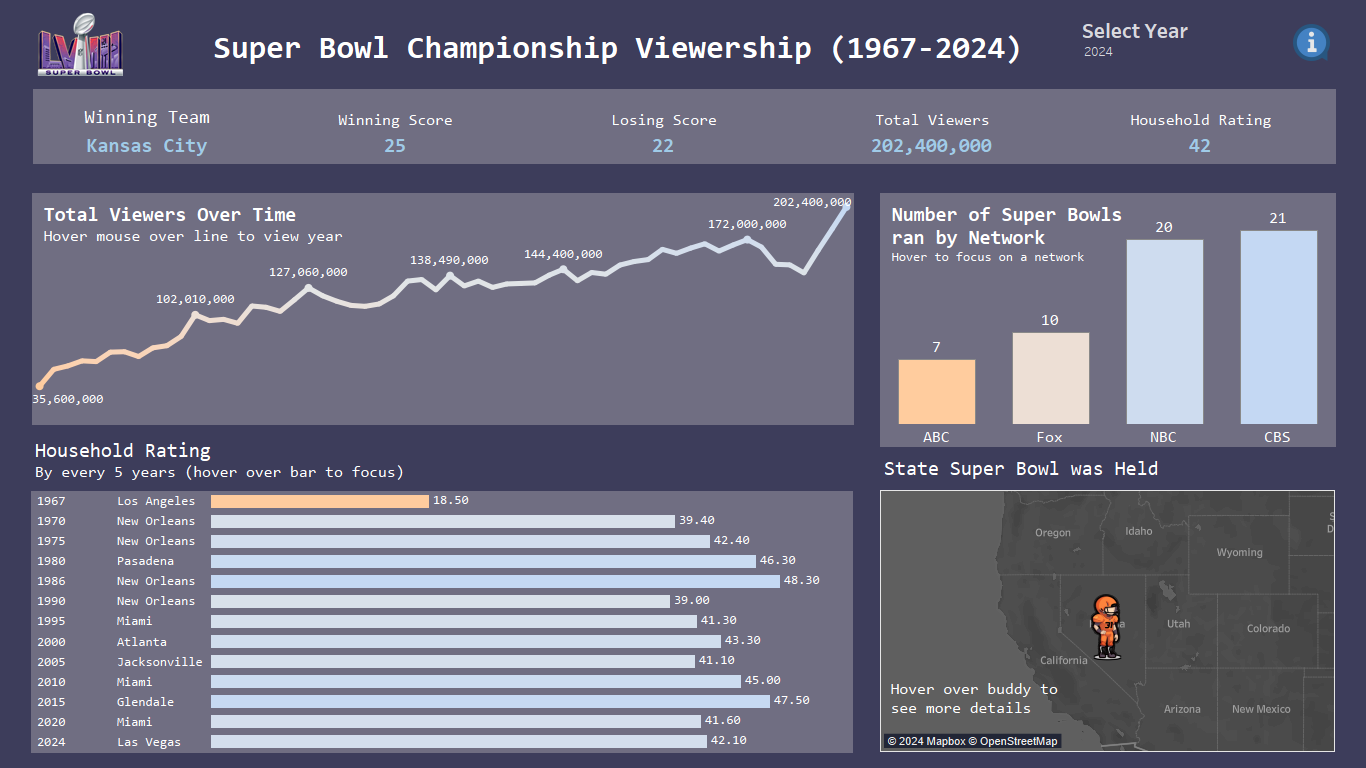

What the dashboard file says about the page in this screenshot:
{"tool":"tableau","page":{"name":"Dashboard 1","canvas":[1366,768],"ordinal":0},"visuals":[{"type":"image","param":"Image/Super_Bowl_LVIII_logo.png","box":[37,12,152,64]},{"type":"title","box":[184,14,868,67]},{"type":"filter","title":"KPI Banner","param":"[federated.1ekt4bs0pq2q6h1biis9r1j9ua7z].[yr:date:ok]","box":[1082,15,174,64]},{"type":"worksheet","title":"KPI Banner","mark":"Automatic","rows":["Winning_Team"],"box":[33,89,1302,74]},{"type":"text","box":[41,184,389,80]},{"type":"worksheet","title":"Total Viewers Over Time","mark":"Automatic","rows":["total_viewers"],"cols":["date"],"box":[32,193,821,231]},{"type":"worksheet","title":"Count by Networks","mark":"Automatic","rows":["total_viewers"],"cols":["network"],"box":[880,193,455,254]},{"type":"text","box":[889,195,256,79]},{"type":"worksheet","title":"HH Ratings","mark":"Automatic","rows":["date","Location City (copy)_2069404039160811520"],"cols":["household_rating"],"box":[31,433,821,319]},{"type":"worksheet","title":"Animated US Map","mark":"Shape","box":[880,451,455,301]},{"type":"text","box":[888,677,184,43]}]}

Visuals, with their boxes in screenshot pixels (x1, y1, x2, y2), scaled from the page's 1366x768 canvas onto the 1366x768 screenshot:
image: (left=37, top=12, right=189, bottom=76)
title: (left=184, top=14, right=1052, bottom=81)
"KPI Banner" filter: (left=1082, top=15, right=1256, bottom=79)
"KPI Banner" worksheet: (left=33, top=89, right=1335, bottom=163)
text: (left=41, top=184, right=430, bottom=264)
"Total Viewers Over Time" worksheet: (left=32, top=193, right=853, bottom=424)
"Count by Networks" worksheet: (left=880, top=193, right=1335, bottom=447)
text: (left=889, top=195, right=1145, bottom=274)
"HH Ratings" worksheet: (left=31, top=433, right=852, bottom=752)
"Animated US Map" worksheet (Shape marks): (left=880, top=451, right=1335, bottom=752)
text: (left=888, top=677, right=1072, bottom=720)
